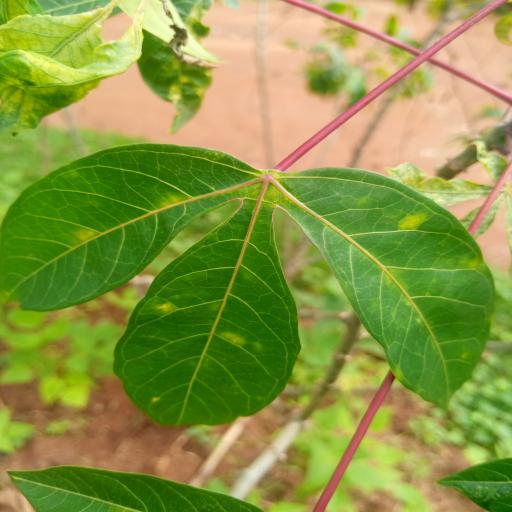Cassava_Mosaic: (0, 137, 507, 430)
